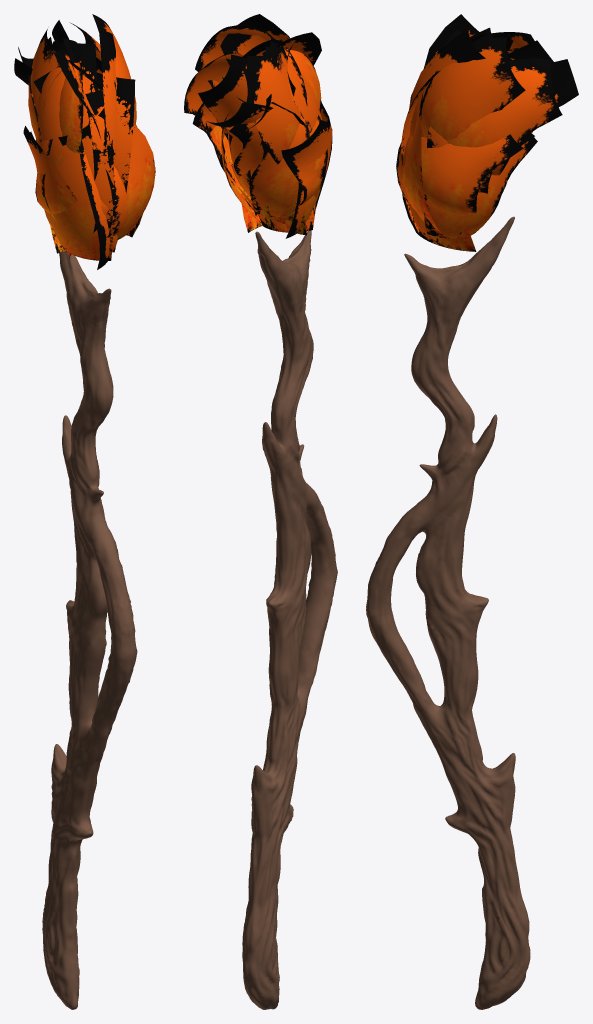
Rendered from Fire_Staff.fbx.
3 views of the same model, side by side, from view 1: azimuth 30°, elevation 25°; view 2: azimuth 150°, elevation 25°; view 3: azimuth 270°, elevation 25° (orthographic).
Visible parts, largest first — view 1: Staff_LowPoly, polySurface2, polySurface4, polySurface8, polySurface11, polySurface30, polySurface5, polySurface16, polySurface3, polySurface27, polySurface14, polySurface34 (+4 smaller); view 2: Staff_LowPoly, polySurface27, polySurface10, polySurface7, polySurface30, polySurface29, polySurface28, polySurface5, polySurface4, polySurface23, polySurface22, polySurface31 (+7 smaller); view 3: Staff_LowPoly, polySurface23, polySurface34, polySurface29, polySurface9, polySurface5, polySurface8, polySurface3, polySurface7, polySurface22, polySurface31.
Part boxes in pixels (box(x1,y1,x2,y2)): Staff_LowPoly: box(42, 251, 137, 1009); polySurface2: box(44, 119, 113, 260); polySurface4: box(38, 41, 98, 166); polySurface8: box(58, 107, 155, 239); polySurface11: box(96, 72, 135, 193); polySurface30: box(23, 126, 77, 213); polySurface5: box(99, 29, 116, 165); polySurface16: box(59, 60, 83, 152); polySurface3: box(78, 140, 117, 269); polySurface27: box(28, 29, 68, 138); polySurface14: box(85, 90, 104, 180); polySurface34: box(105, 124, 136, 237); Staff_LowPoly: box(242, 230, 337, 1009); polySurface27: box(247, 45, 300, 164); polySurface10: box(249, 115, 327, 217); polySurface7: box(198, 54, 315, 232); polySurface30: box(281, 120, 332, 212); polySurface29: box(184, 52, 242, 166); polySurface28: box(229, 68, 300, 177); polySurface5: box(220, 14, 289, 215); polySurface4: box(263, 30, 321, 132); polySurface23: box(195, 25, 270, 88); polySurface22: box(258, 32, 321, 228); polySurface31: box(207, 103, 285, 223); Staff_LowPoly: box(366, 216, 530, 1009); polySurface23: box(421, 37, 525, 140); polySurface34: box(396, 134, 523, 213); polySurface29: box(447, 58, 562, 175); polySurface9: box(423, 137, 537, 238); polySurface5: box(409, 29, 485, 136); polySurface8: box(402, 92, 442, 235); polySurface3: box(402, 194, 476, 251); polySurface7: box(507, 40, 568, 95); polySurface22: box(424, 14, 508, 67); polySurface31: box(554, 59, 578, 106).
Bounding box in the file's own units: 19.86 × 170 × 33.17.
